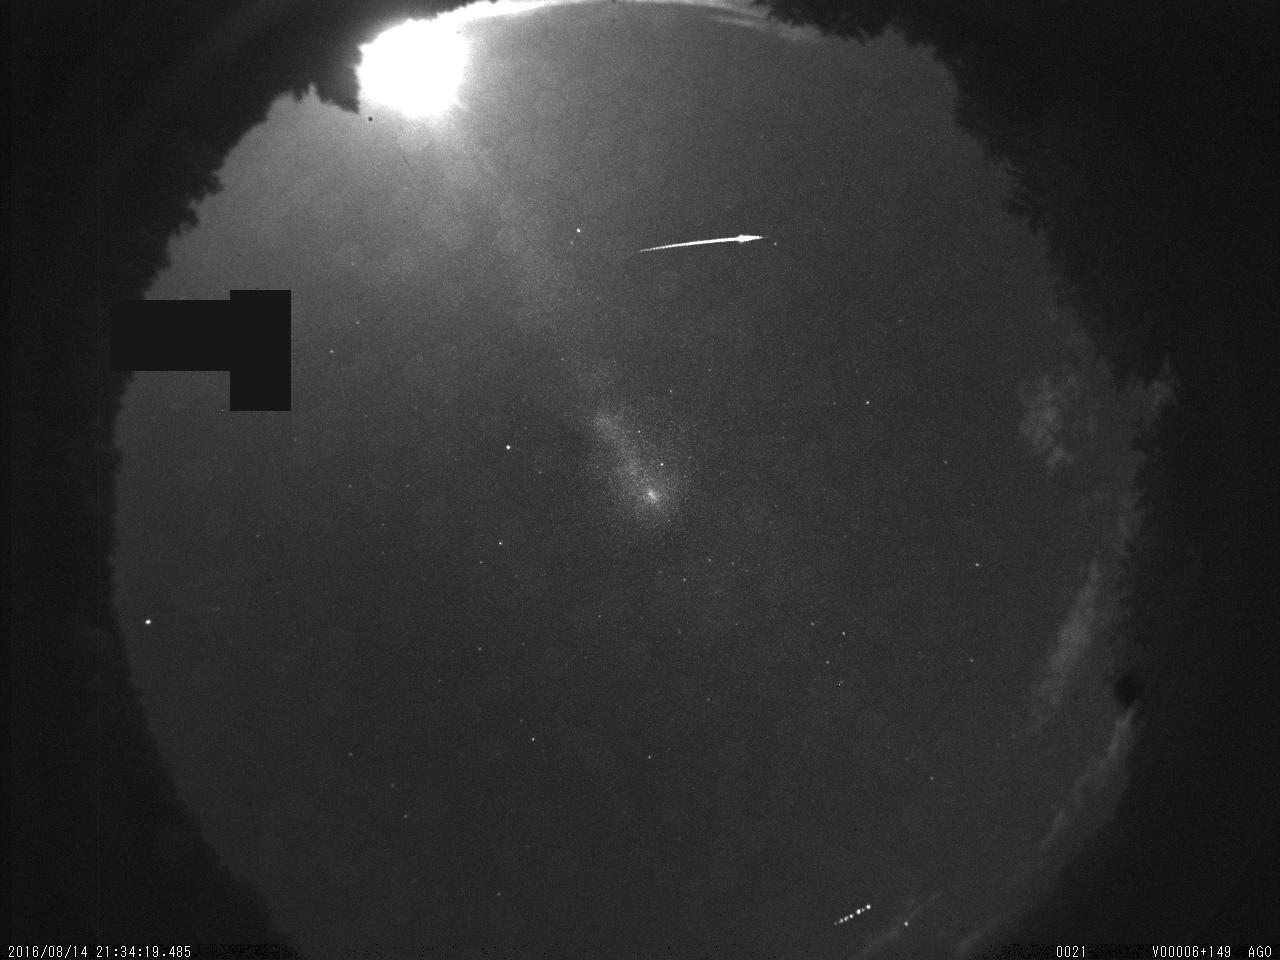Meteor: (633, 224, 774, 264)
